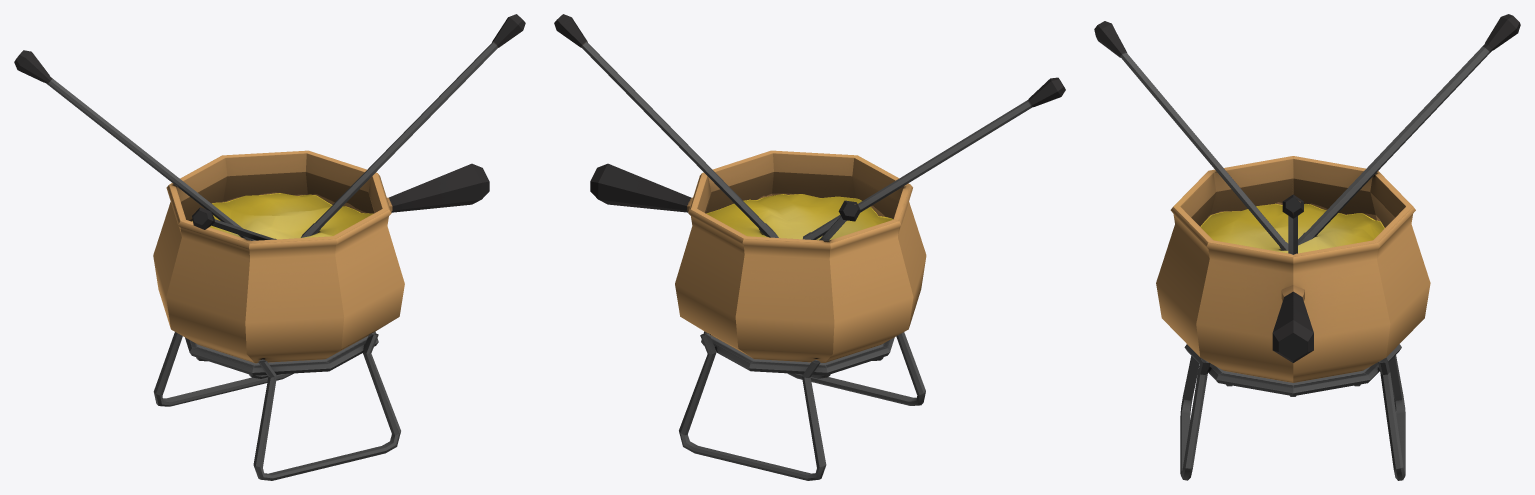
File: 055bc530-a0e1-44ed-ab25-87b6c491fbe8.glb
3 renders of one model, left to right at view 1: azimuth 30°, elevation 25°; view 2: azimuth 150°, elevation 25°; view 3: azimuth 270°, elevation 25°, orthographic. The views are drawn at different scales.
Visible parts, largest first — view 1: Fondue_mesh; view 2: Fondue_mesh; view 3: Fondue_mesh.
Boxes of the visible parts, left/top/right/bottom form: Fondue_mesh: left=14, top=14, right=525, bottom=480; Fondue_mesh: left=554, top=14, right=1065, bottom=480; Fondue_mesh: left=1094, top=14, right=1520, bottom=480.
Bounding box in the file's own units: 15.29 × 12.39 × 12.74.
Materials: 1 (1 with a texture image).
